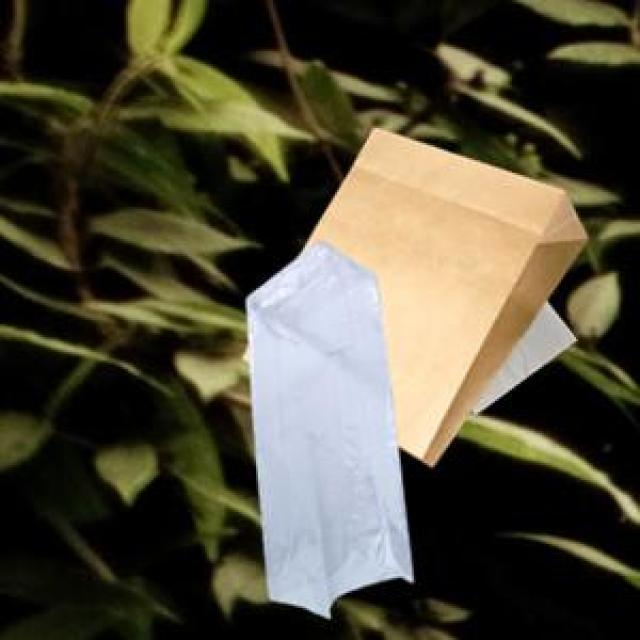paper: (297, 124, 582, 463), (467, 297, 572, 410)
